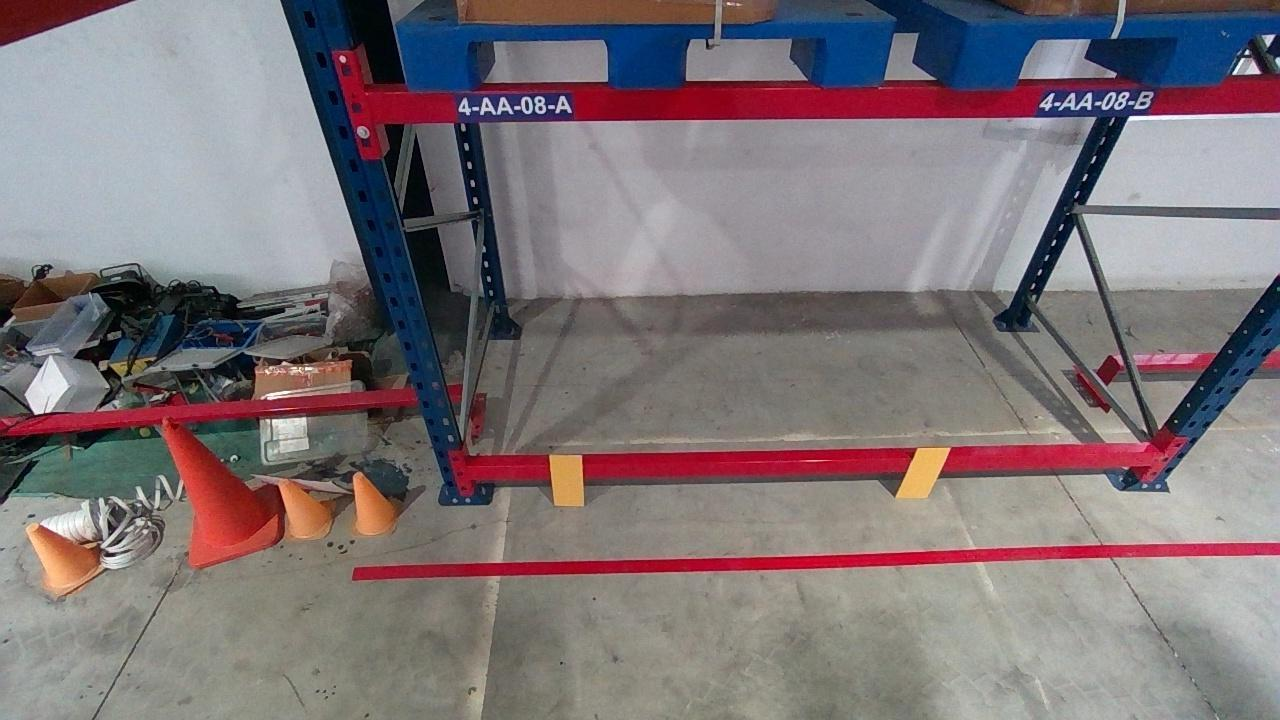h_rack: (370, 84, 1276, 120), (472, 451, 1159, 479)
orange_strip: (895, 447, 954, 497), (549, 455, 584, 505)
red_line: (347, 539, 1277, 578)
small_pallet: (372, 22, 894, 85), (964, 16, 1278, 84)
